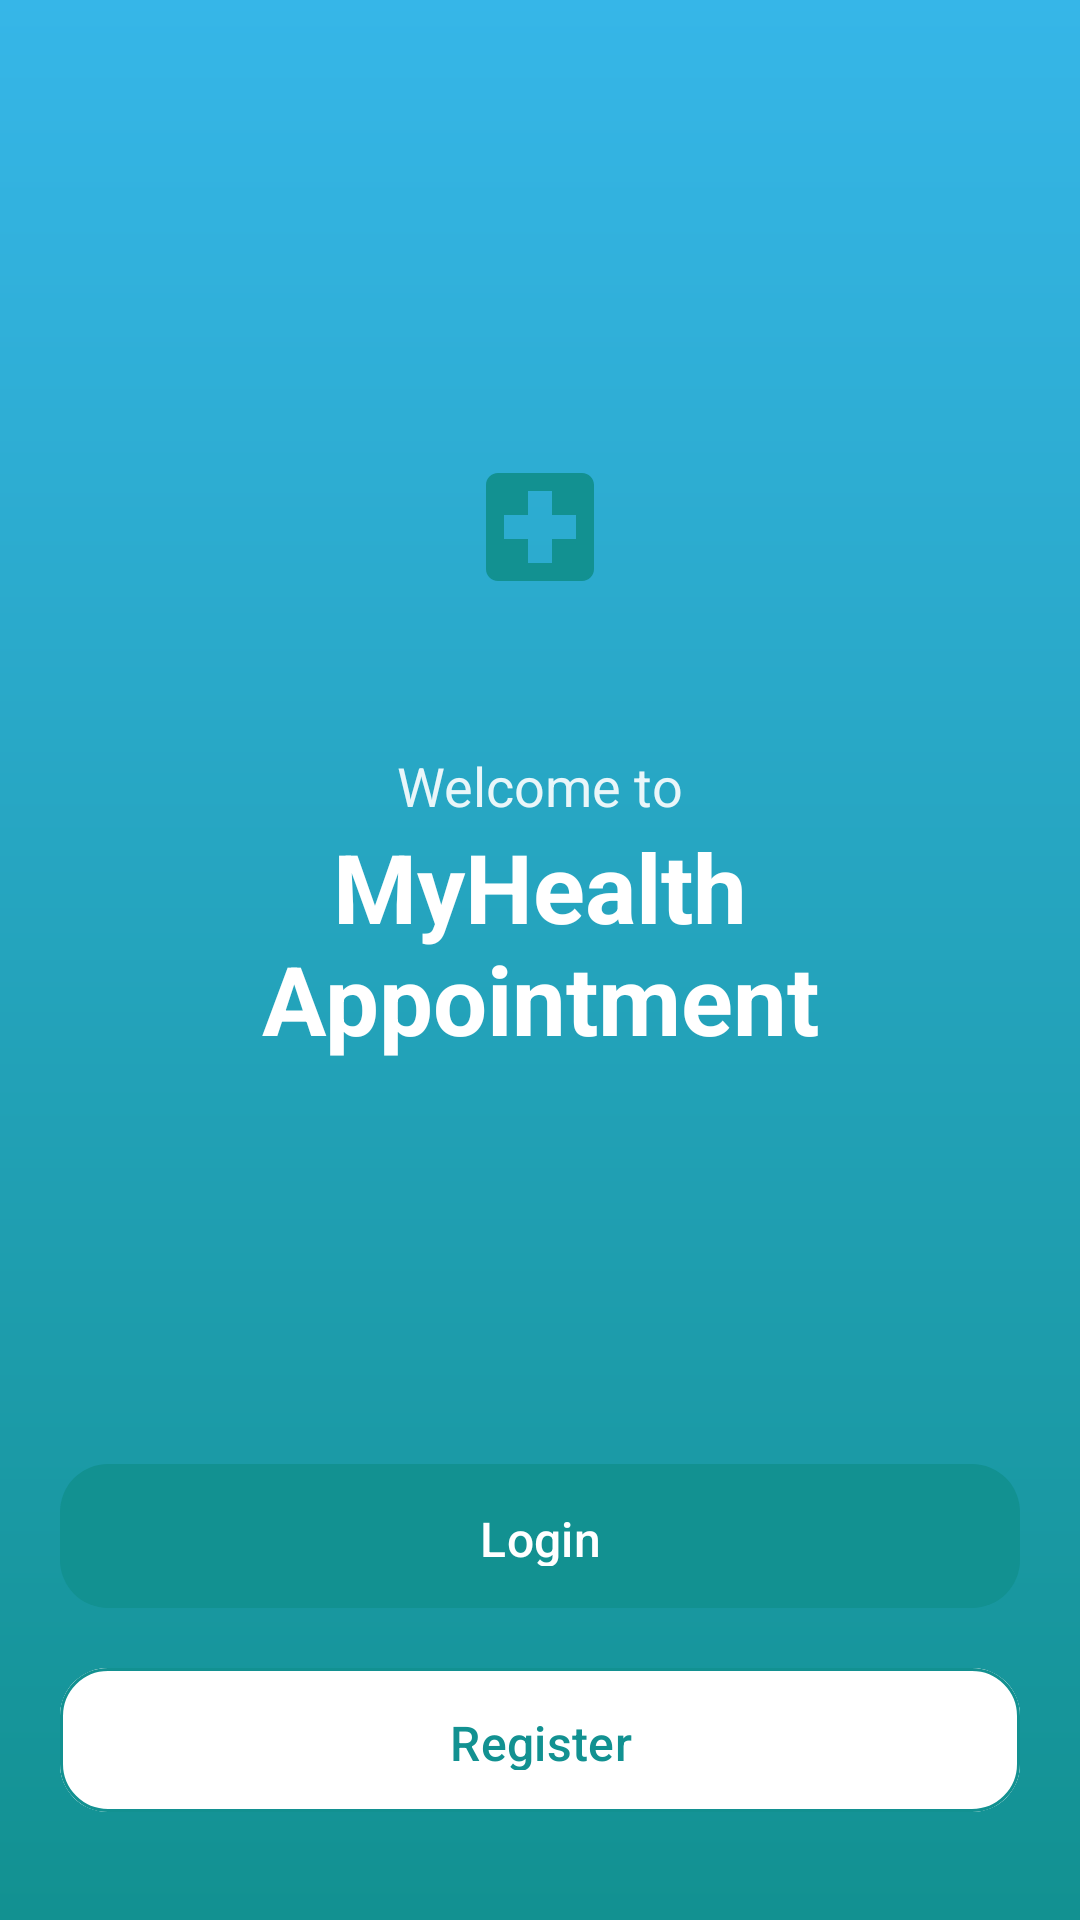

Icons on this 1080 x 1920 Android screen, each with its box as (x1, y1, x2, y2):
medical cross: (486, 473, 594, 581)
